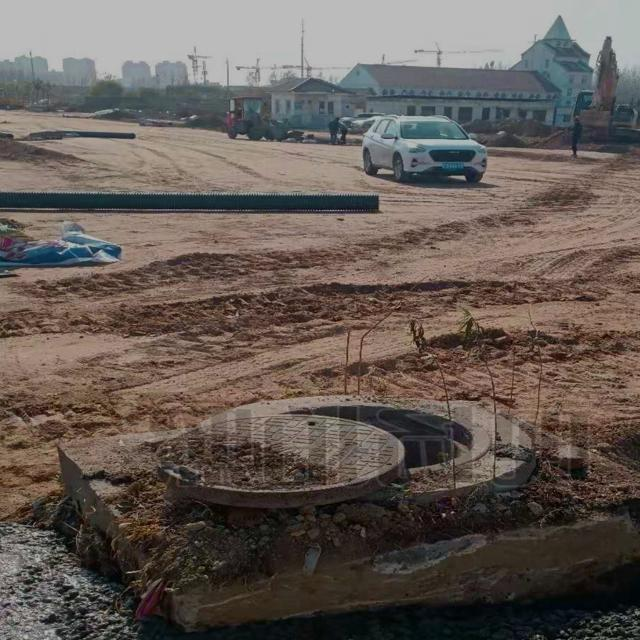uncovered: (157, 393, 538, 510)
